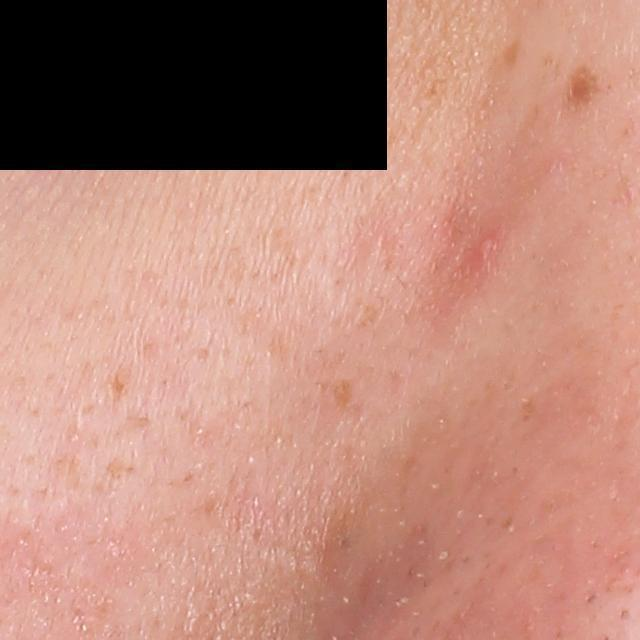melasma: (108, 365, 136, 401), (498, 37, 524, 72)
nevus: (563, 69, 603, 109)
